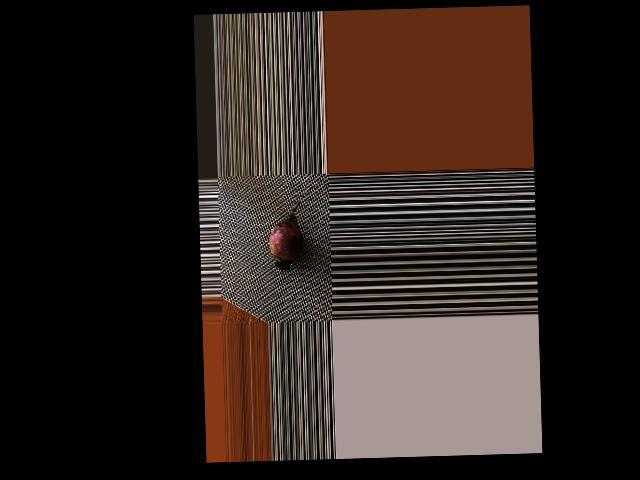beet: (268, 184, 317, 273)
